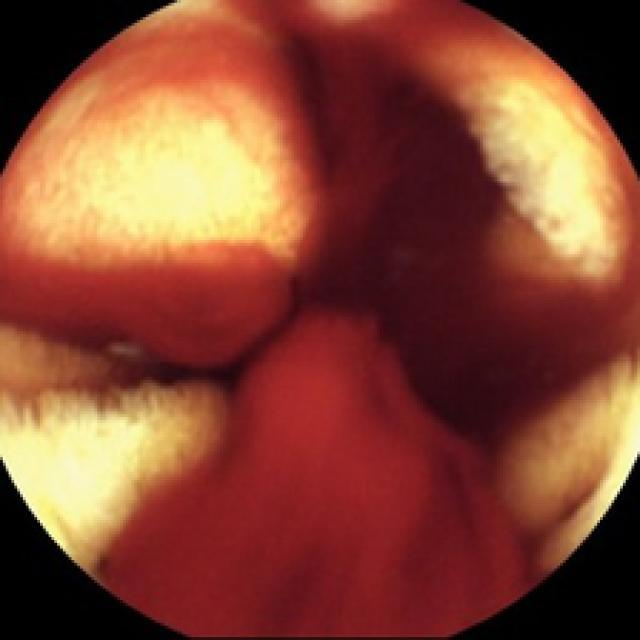bleeding: (0, 248, 603, 640), (283, 0, 463, 240)
